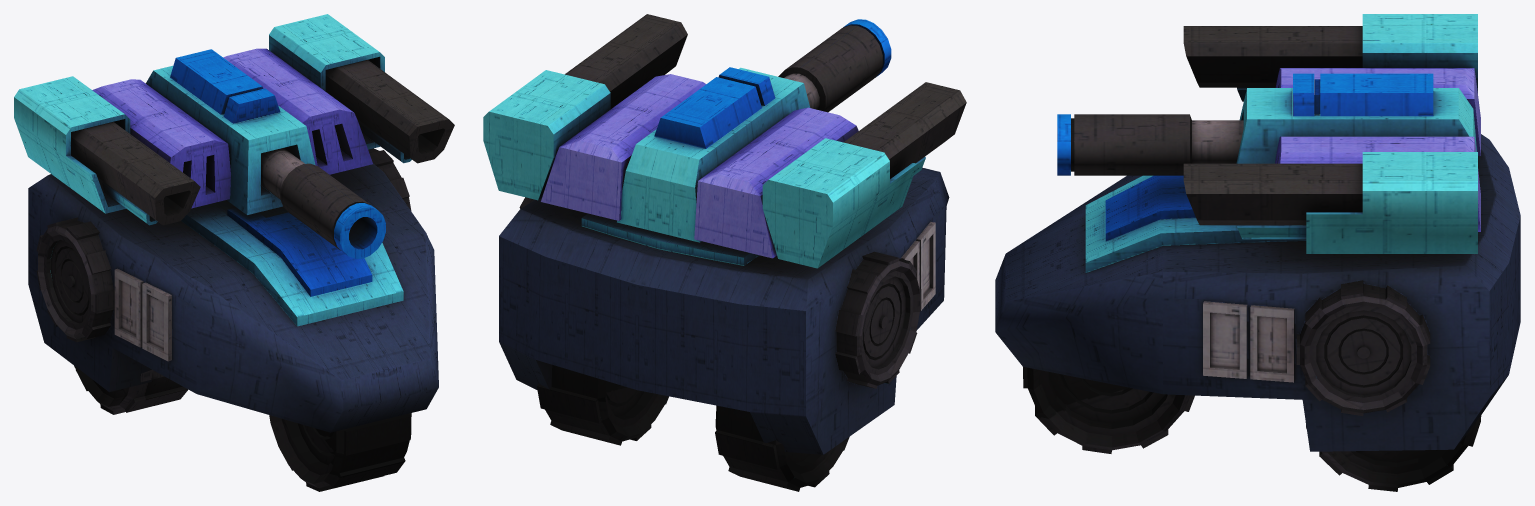
Rendered from PlayerA10.obj.
3 views of the same model, side by side, from view 1: azimuth 30°, elevation 25°; view 2: azimuth 150°, elevation 25°; view 3: azimuth 270°, elevation 25° (orthographic). The views are drawn at different scales.
Parts seen in each view (by area): view 1: Object001, Object002, Object004, Object003; view 2: Object001, Object002, Object003; view 3: Object001, Object002, Object004, Object003.
Part boxes in pixels (x1,y1,x2,y2): Object001: (28, 48, 438, 432); Object002: (14, 14, 454, 225); Object004: (269, 413, 411, 491); Object003: (74, 365, 188, 414); Object001: (499, 19, 949, 454); Object002: (483, 14, 966, 268); Object003: (536, 365, 849, 491); Object001: (995, 68, 1520, 451); Object002: (1183, 14, 1477, 253); Object004: (1023, 367, 1194, 453); Object003: (1305, 415, 1481, 491).
Size of the model in its own units: 93.13 by 88.28 by 119.
Materials: 1 (1 with a texture image).
